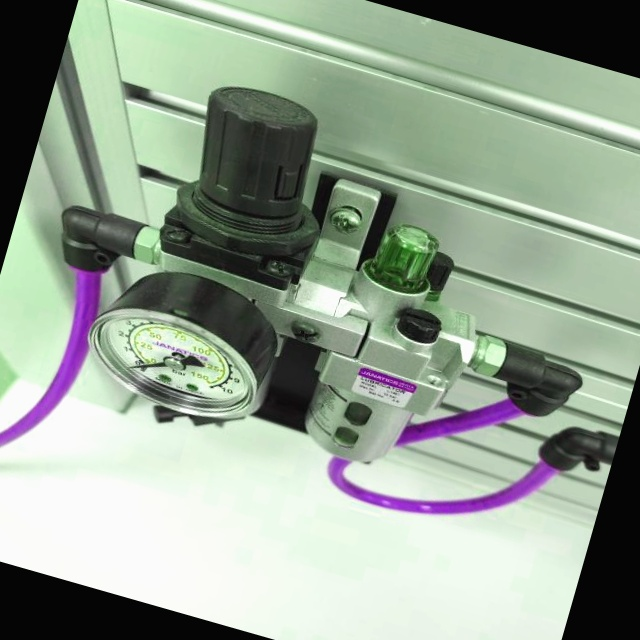FRL unit: (2, 37, 560, 533)
